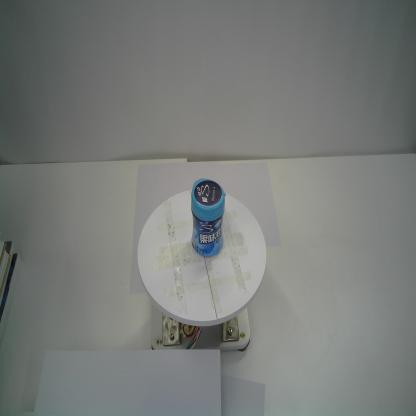Gum: (191, 177, 226, 258)
